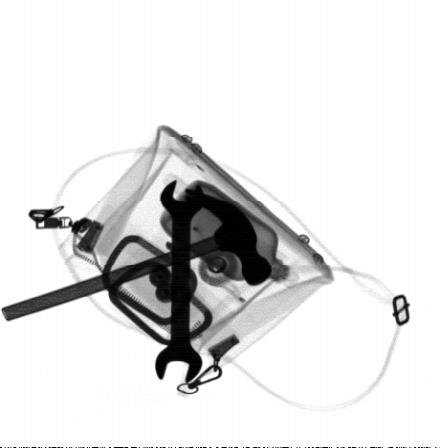Hammer: (0, 188, 275, 323)
Wrench: (155, 177, 207, 383)
